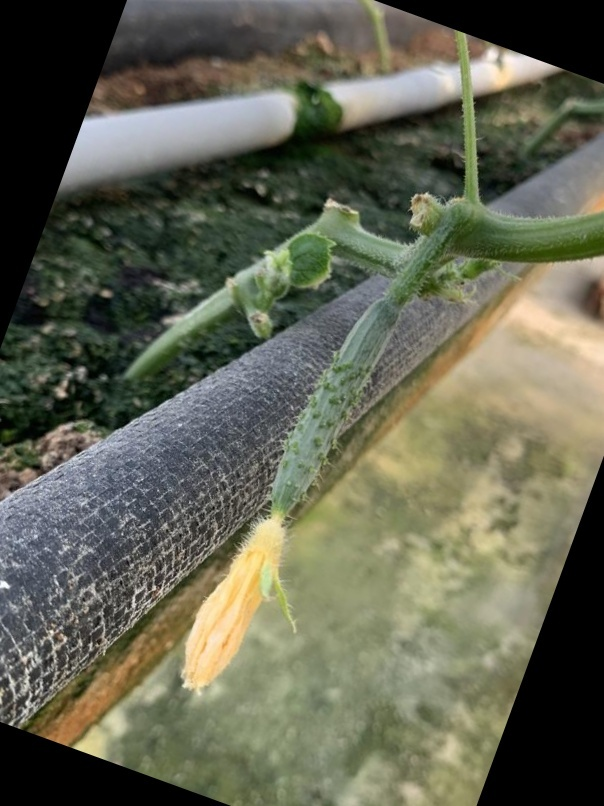bear: (173, 283, 416, 703)
